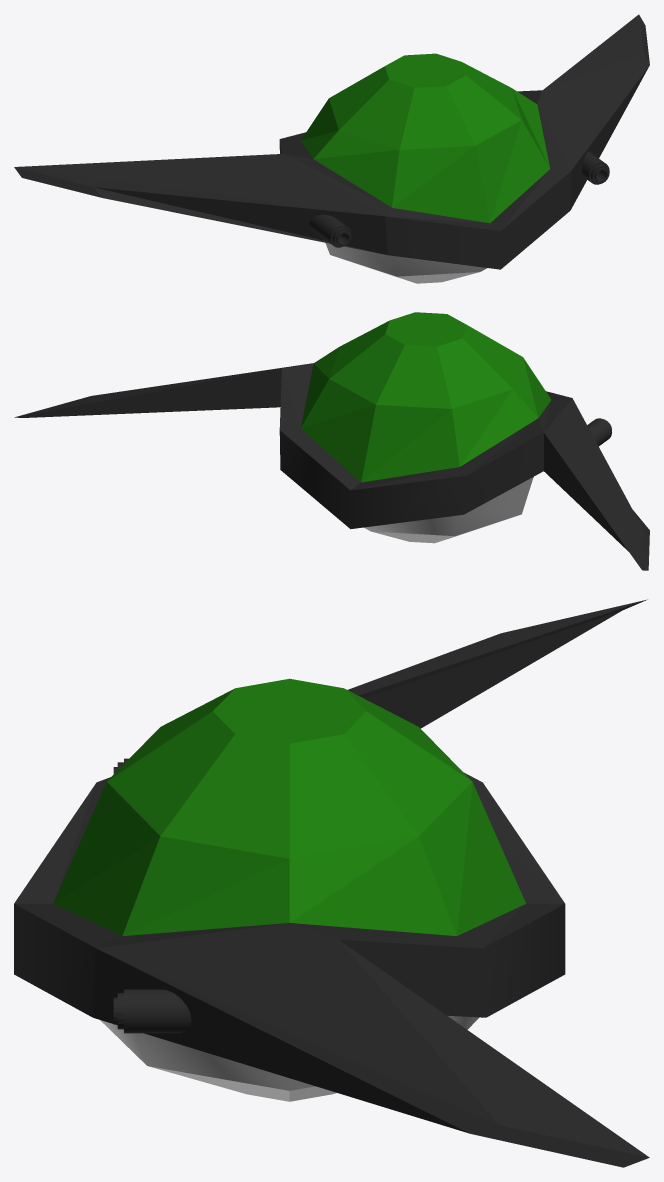
File: Enemy09.FBX
3 renders of one model, top to bottom at view 1: azimuth 30°, elevation 25°; view 2: azimuth 150°, elevation 25°; view 3: azimuth 270°, elevation 25°, orthographic. The views are drawn at different scales.
Parts seen in each view (by area): view 1: Cylinder001, Cylinder002, Cylinder003; view 2: Cylinder001, Cylinder002; view 3: Cylinder001, Cylinder003.
Part boxes in pixels (x1,y1,x2,y2): Cylinder001: (14, 14, 649, 283); Cylinder002: (309, 214, 351, 247); Cylinder003: (582, 151, 609, 184); Cylinder001: (14, 312, 649, 570); Cylinder002: (587, 418, 611, 446); Cylinder001: (14, 599, 649, 1167); Cylinder003: (113, 989, 191, 1033).
Bounding box in the file's own units: 170 × 51.85 × 81.88.
